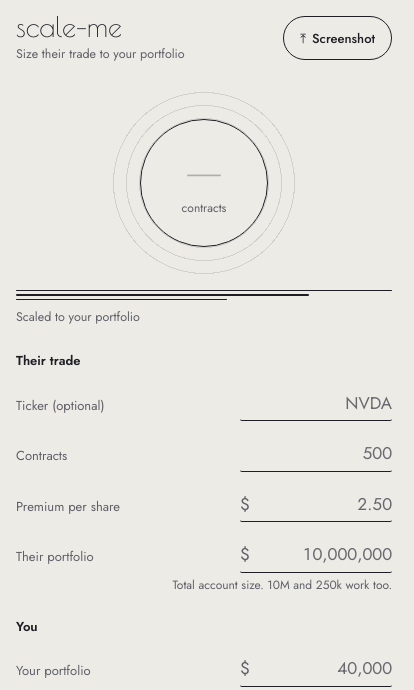
Test: App › groups digits when leaving a field so shorthand is confirmed
Type "10m" into the field labelled "Their portfolio" at (321, 549), box [250,526,392,572]
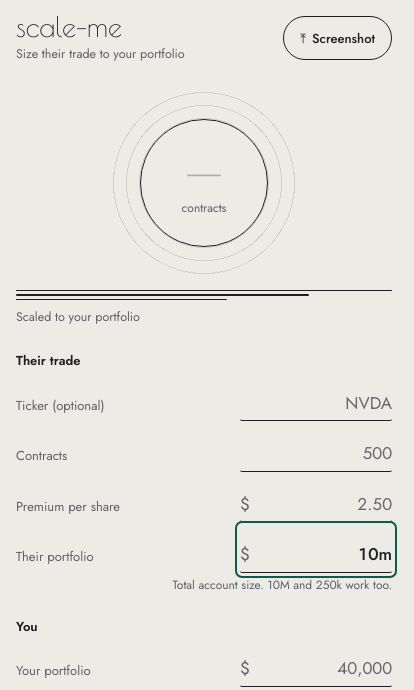
Press Tab
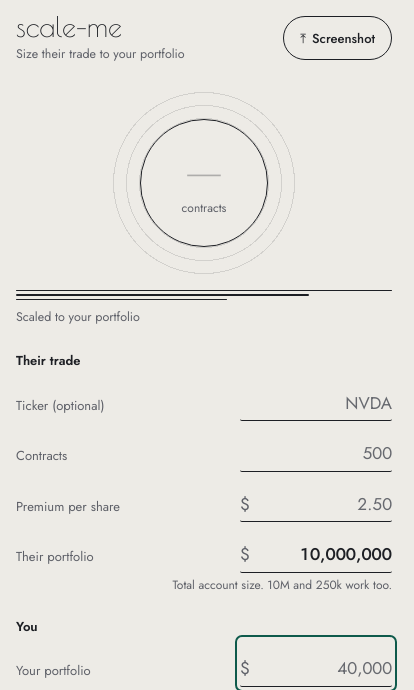
Now the field labelled "Their portfolio" holds "10,000,000", box [250,526,392,572]
